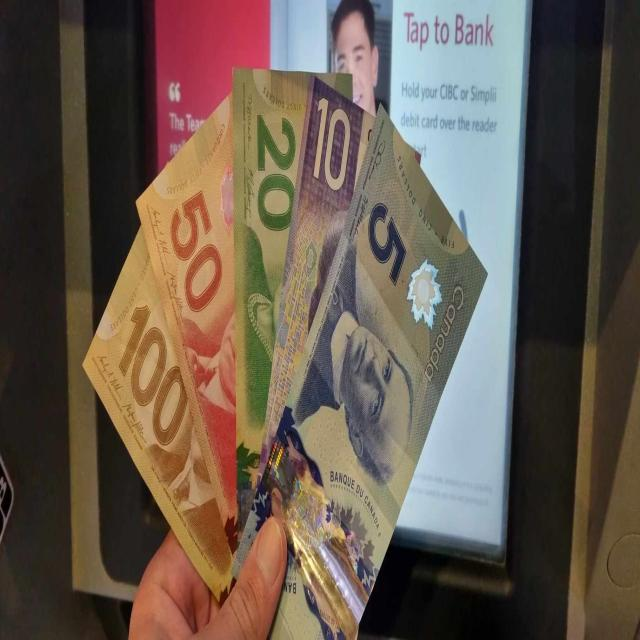10 cad: (255, 78, 380, 503)
100 cad: (85, 227, 243, 605)
20 cad: (233, 69, 310, 535)
5 cad: (259, 102, 491, 638)
50 cad: (136, 94, 244, 569)
